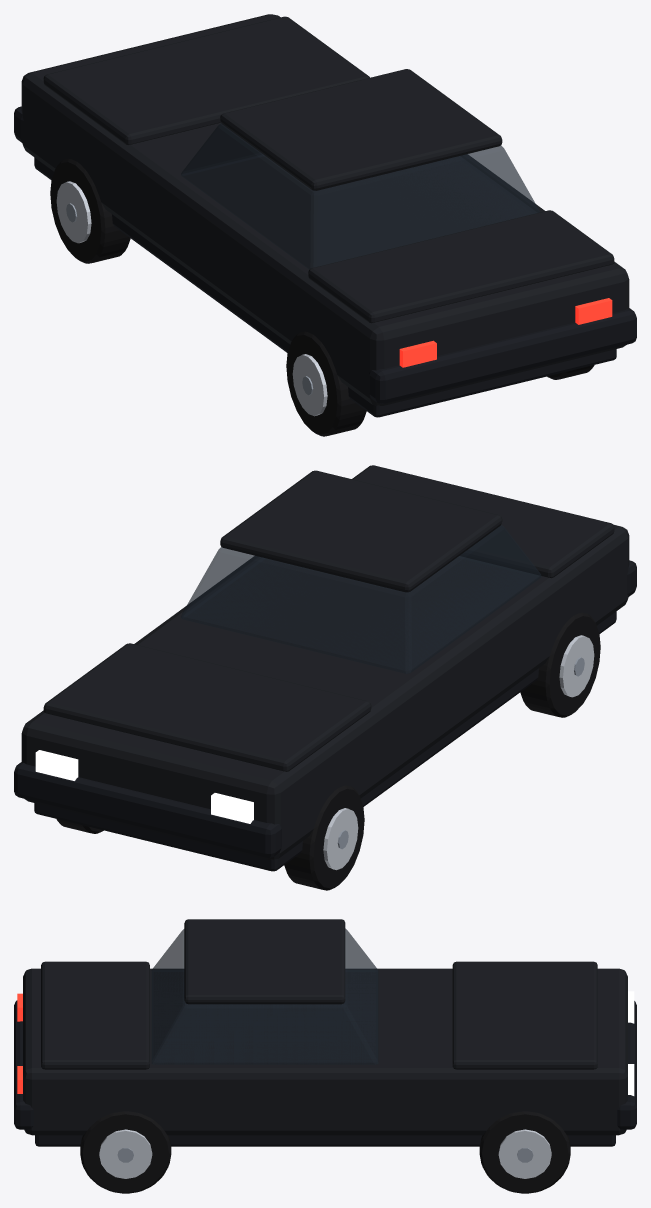
File: veh_muscle.glb
3 views of the same model, one above another, from view 1: azimuth 30°, elevation 25°; view 2: azimuth 150°, elevation 25°; view 3: azimuth 270°, elevation 25° (orthographic). The views are drawn at different scales.
Parts seen in each view (by area): view 1: Body, Glass, Hood, Roof, Boot, Bumper_R, Skirt, Wheel_RL, Wheel_FL, Wheel_FL_Rim, Wheel_RL_Rim, Taillight_L (+1 smaller); view 2: Body, Glass, Hood, Roof, Boot, Bumper_F, Skirt, Wheel_RL, Wheel_FL, Wheel_RL_Rim, Wheel_FL_Rim, Headlight_R (+1 smaller); view 3: Body, Glass, Hood, Roof, Boot, Skirt, Wheel_FR, Wheel_RR, Wheel_FR_Rim, Wheel_RR_Rim, Bumper_R, Bumper_F.
Part boxes in pixels (box(x1,y1,x2,y2)): Body: box(21, 14, 629, 405); Glass: box(181, 123, 539, 269); Hood: box(43, 16, 369, 144); Roof: box(220, 69, 502, 190); Boot: box(308, 210, 614, 323); Bumper_R: box(369, 308, 636, 403); Skirt: box(34, 157, 616, 417); Wheel_RL: box(286, 331, 366, 436); Wheel_FL: box(50, 159, 130, 263); Wheel_FL_Rim: box(56, 181, 91, 243); Wheel_RL_Rim: box(292, 354, 327, 416); Taillight_L: box(399, 340, 436, 367); Body: box(21, 525, 629, 859); Glass: box(181, 525, 541, 673); Hood: box(43, 643, 371, 771); Roof: box(220, 470, 502, 592); Boot: box(352, 465, 614, 578); Bumper_F: box(14, 762, 281, 857); Skirt: box(34, 611, 616, 871); Wheel_RL: box(520, 612, 600, 717); Wheel_FL: box(284, 785, 364, 890); Wheel_RL_Rim: box(559, 635, 594, 697); Wheel_FL_Rim: box(323, 808, 358, 870); Headlight_R: box(35, 750, 78, 780); Body: box(23, 968, 627, 1135); Glass: box(151, 928, 378, 1064); Hood: box(452, 961, 597, 1069); Roof: box(184, 919, 345, 1004); Boot: box(41, 961, 149, 1069); Skirt: box(35, 1135, 615, 1146); Wheel_FR: box(479, 1111, 570, 1193); Wheel_RR: box(80, 1111, 171, 1193); Wheel_FR_Rim: box(498, 1129, 551, 1178); Wheel_RR_Rim: box(99, 1129, 152, 1178); Bumper_R: box(14, 1000, 33, 1129); Bumper_F: box(617, 1001, 636, 1129).
Size of the model in its own units: 2.09 by 1.59 by 4.89.
